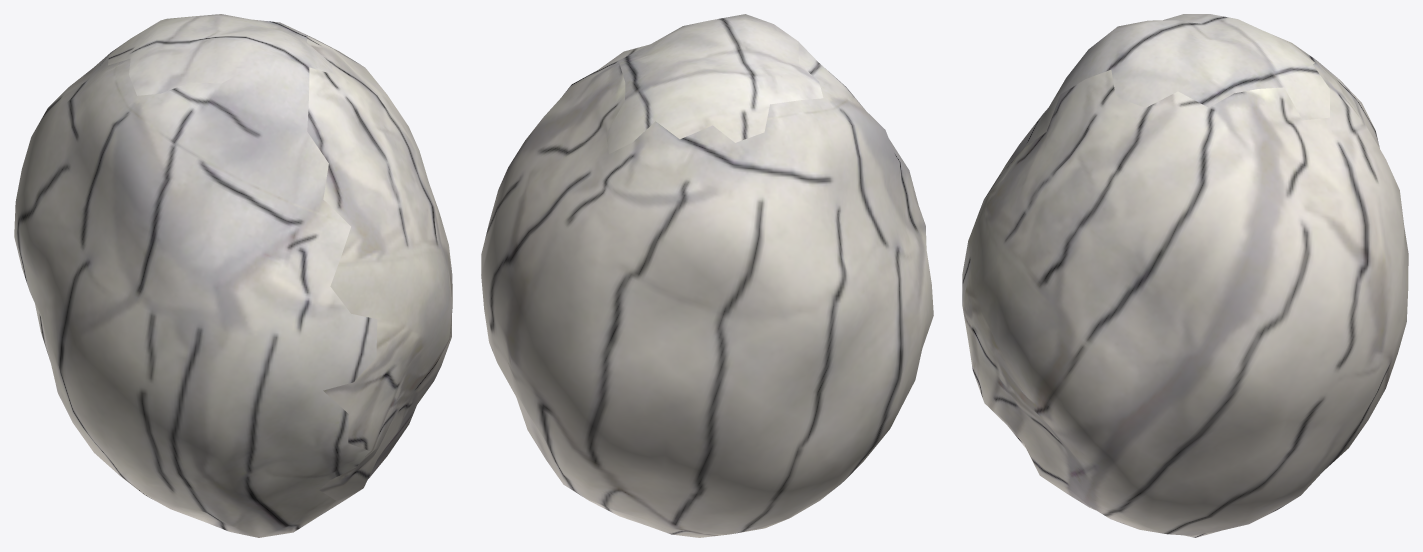
File: jjAsteroidB_obj.fbx
The picture shows the model from 3 angles, left to right: view 1: azimuth 30°, elevation 25°; view 2: azimuth 150°, elevation 25°; view 3: azimuth 270°, elevation 25°; orthographic projection.
Parts seen in each view (by area): view 1: AsteroidB_mesh; view 2: AsteroidB_mesh; view 3: AsteroidB_mesh.
Boxes of the visible parts, bbox=[...] form: AsteroidB_mesh: bbox=[14, 14, 452, 537]; AsteroidB_mesh: bbox=[481, 14, 933, 537]; AsteroidB_mesh: bbox=[962, 14, 1408, 537].
Size of the model in its own units: 3.76 by 4.68 by 3.92.
